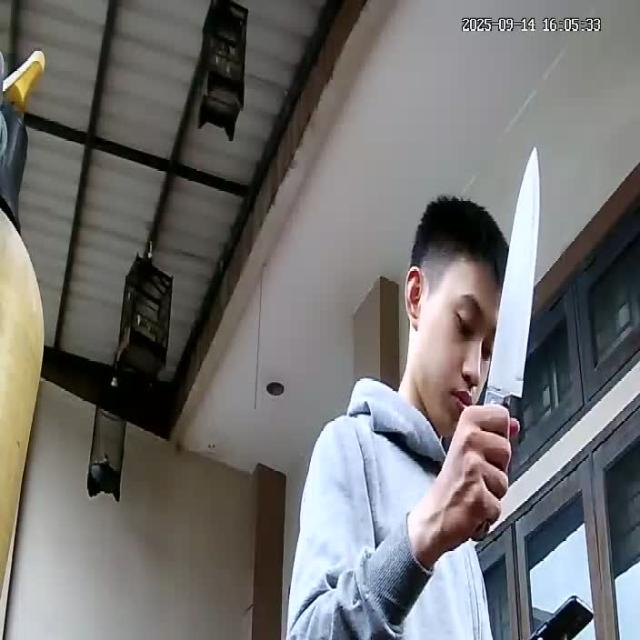senjata_tajam: (482, 142, 542, 408)
